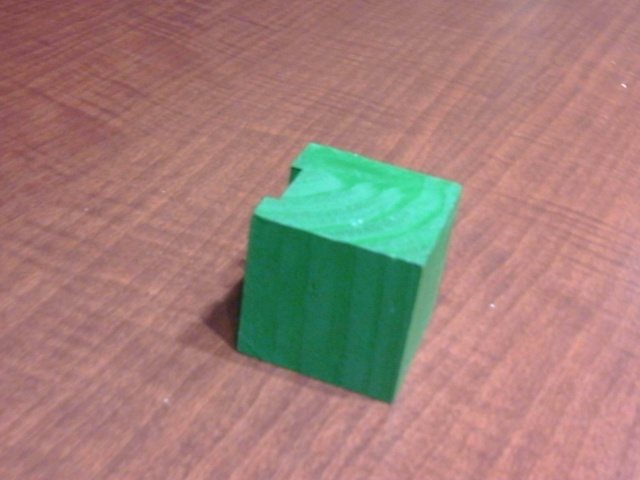GreenBlock: (233, 137, 463, 408)
